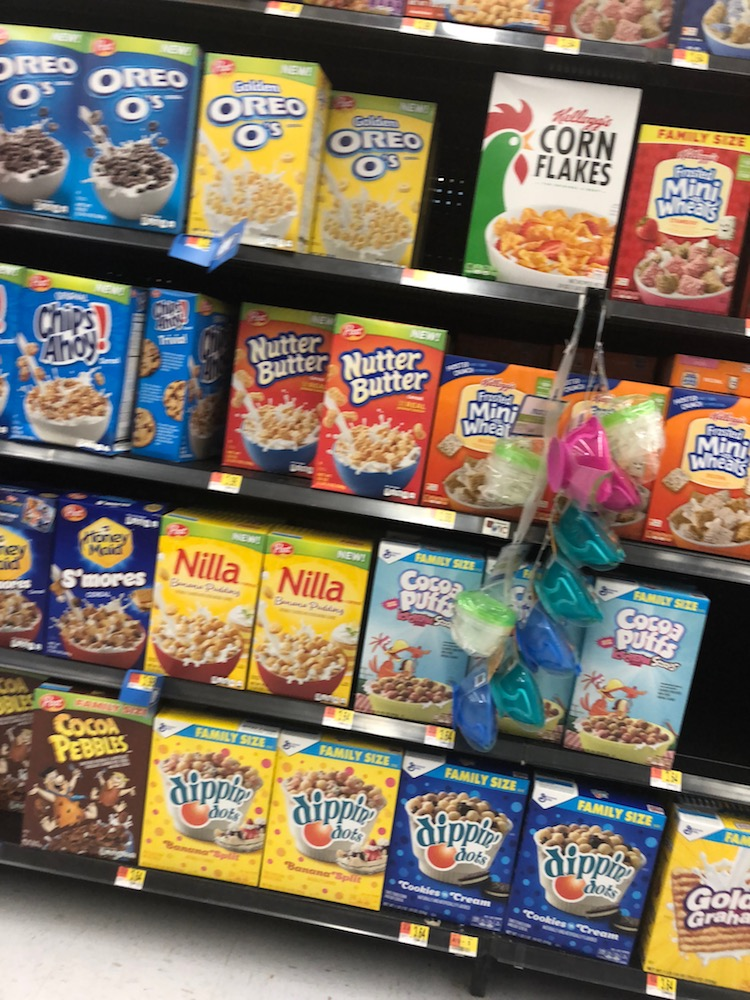Chips Ahoys-565717529: (8, 262, 125, 450)
Dippin Dots Banana-568929376: (149, 714, 278, 893), (267, 728, 389, 905)
Dippin Dots Cookies & Cream -568929378: (513, 782, 649, 955), (390, 752, 519, 927)
Mini Wheats Straw-567084832: (625, 129, 750, 300)
Nilla -568301014: (252, 536, 375, 702), (147, 520, 251, 688)
Nutter Butter-565717511: (324, 309, 444, 510), (222, 298, 333, 483)
Oreo Golden-568301011: (191, 53, 314, 256), (312, 86, 425, 259)
Oreo-563424384: (81, 36, 194, 233), (1, 16, 78, 225)
